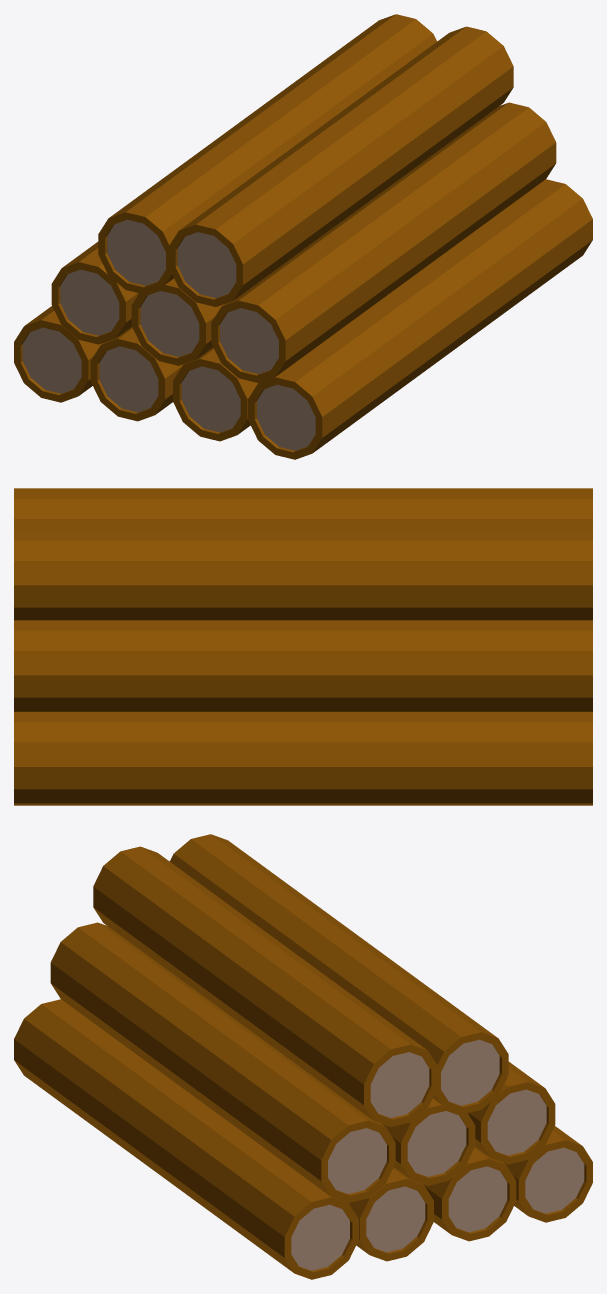
File: woods.gltf
3 renders of one model, top to bottom at view 1: azimuth 30°, elevation 25°; view 2: azimuth 150°, elevation 25°; view 3: azimuth 270°, elevation 25°, orthographic. The views are drawn at different scales.
Visible parts, largest first — view 1: node-0; view 2: node-0; view 3: node-0.
Boxes of the visible parts, x1=… form: node-0: x1=14, y1=14, x2=592, y2=459; node-0: x1=14, y1=488, x2=592, y2=805; node-0: x1=14, y1=834, x2=592, y2=1279.
Size of the model in its own units: 469283 by 168976 by 420104.
